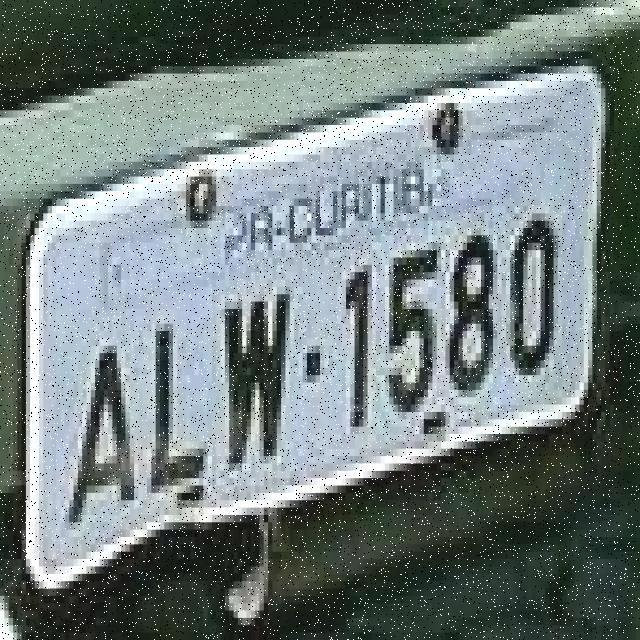LicensePlate: (28, 110, 600, 543)
